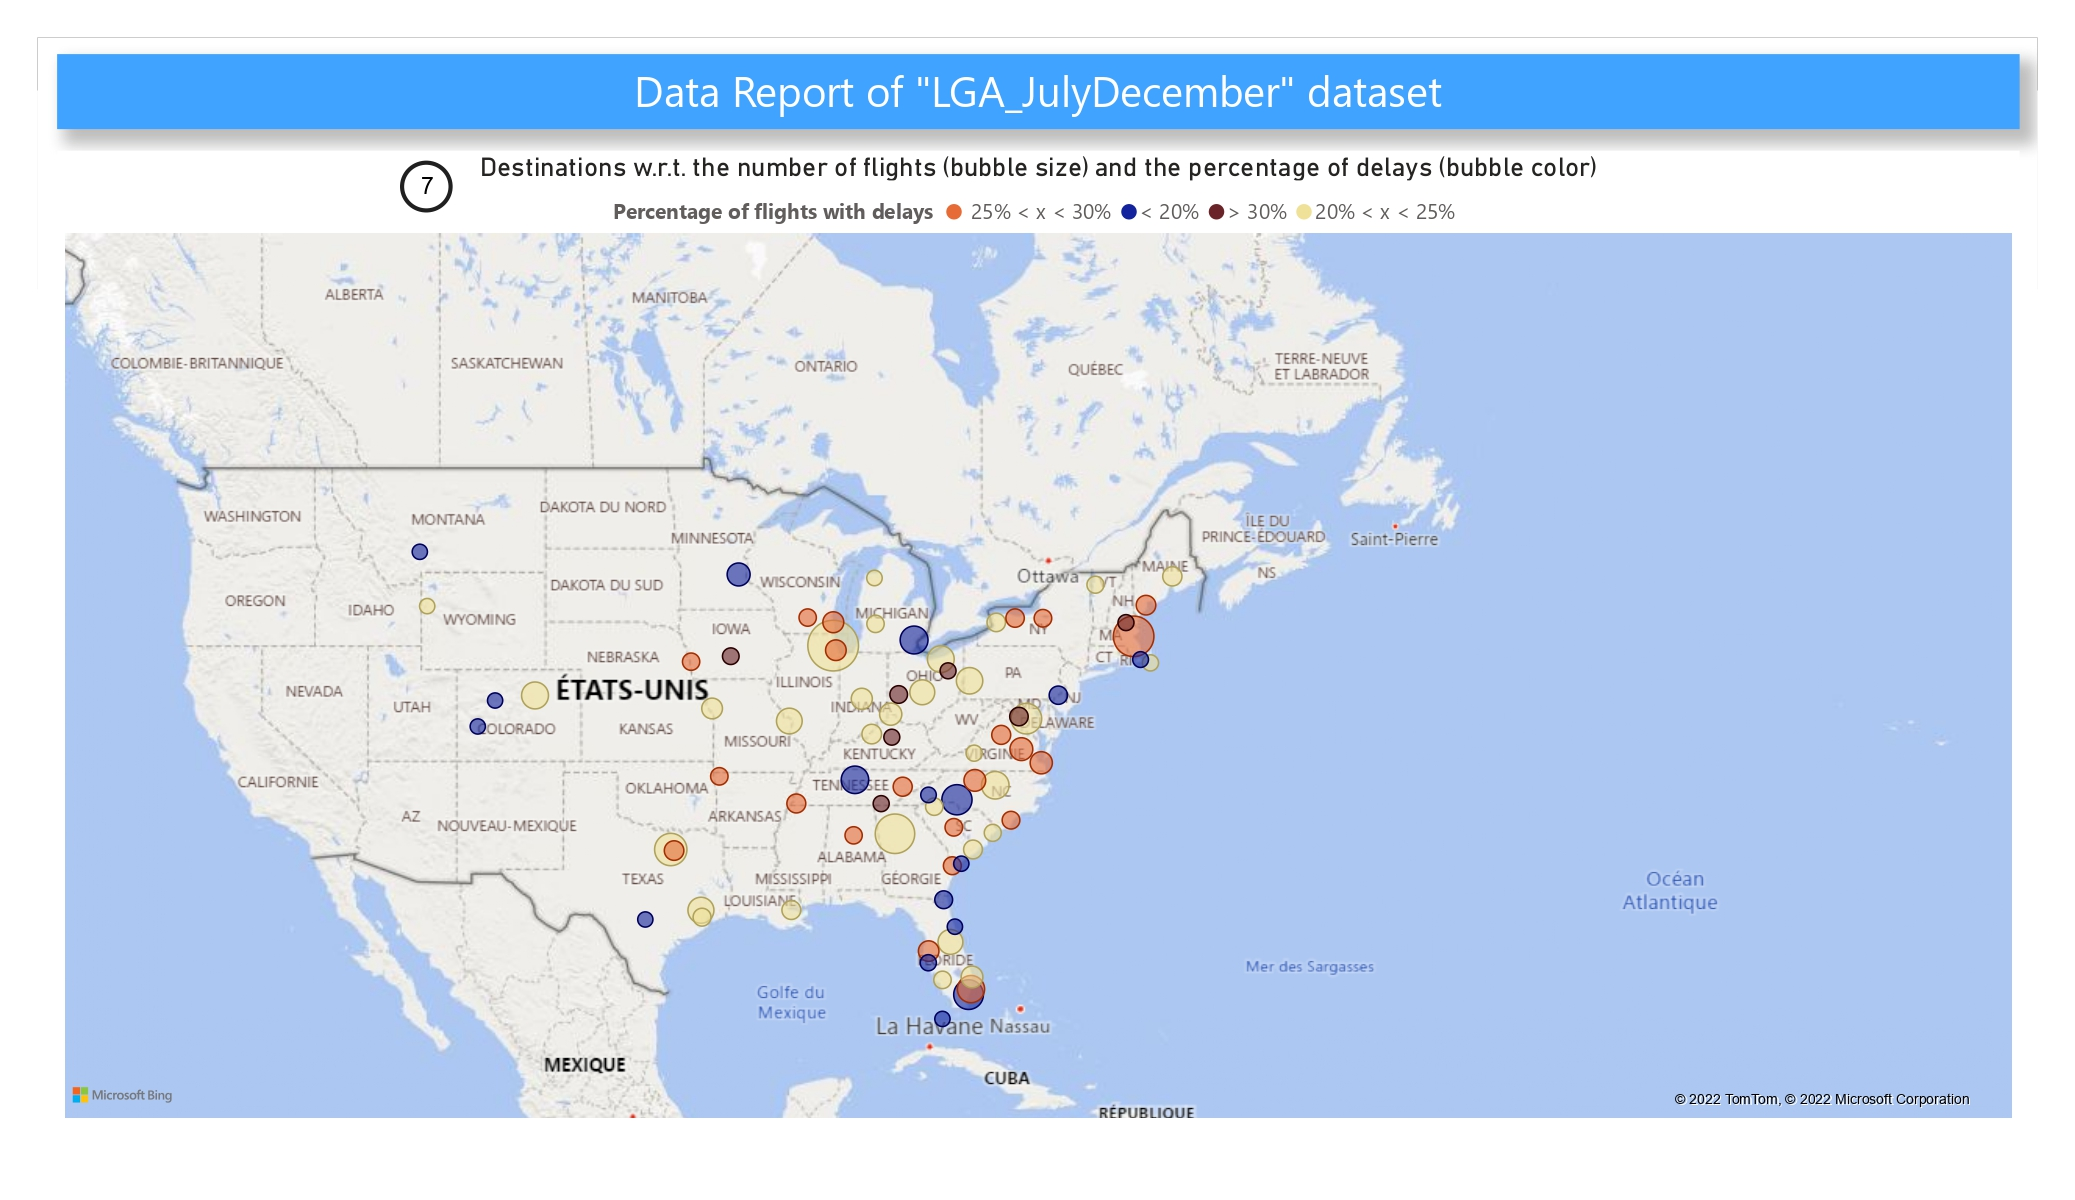

Layout of this report page (visuals, bound fields, positions):
{"tool":"powerbi","page":{"name":"Page 2","canvas":[1280,720],"ordinal":1},"visuals":[{"type":"textbox","box":[12.6,10.7,1255.7,47.7],"z":0},{"type":"map","title":"Destinations w.r.t. the number of flights (bubble size) and the percentage of delays (bubble color)","fields":{"Y":["Coordinates.Lat"],"X":["Coordinates.Long"],"Size":["Sum(Coordinates.Nb_flights)"],"Series":["Coordinates.Delays_percentage"]},"box":[12.6,72.5,1255.8,624.1],"z":1000}]}

Visuals, with their boxes in screenshot pixels (x1, y1, x2, y2):
textbox: crop(57, 54, 2019, 129)
"Destinations w.r.t. the number of flights (bubble size) and the percentage of delays (bubble color)" map: crop(57, 151, 2019, 1126)
